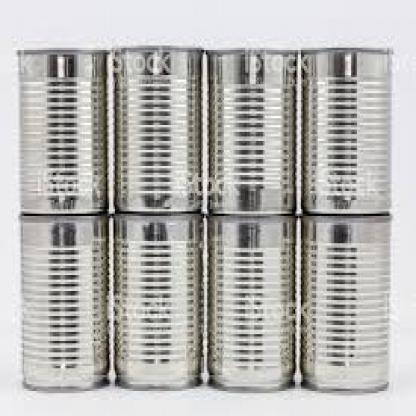METAL: (20, 211, 109, 391), (110, 212, 202, 386), (206, 216, 295, 391), (109, 44, 201, 212), (300, 214, 387, 391), (16, 47, 108, 214), (204, 46, 295, 214), (299, 46, 389, 212)
